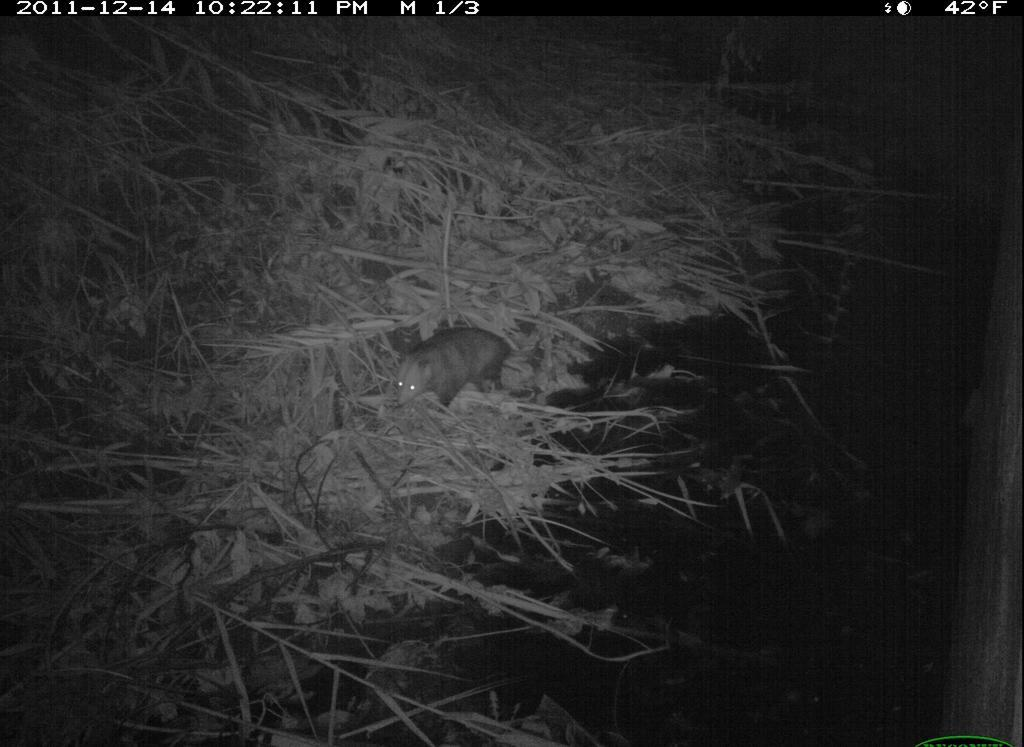opossum: (379, 323, 521, 422)
